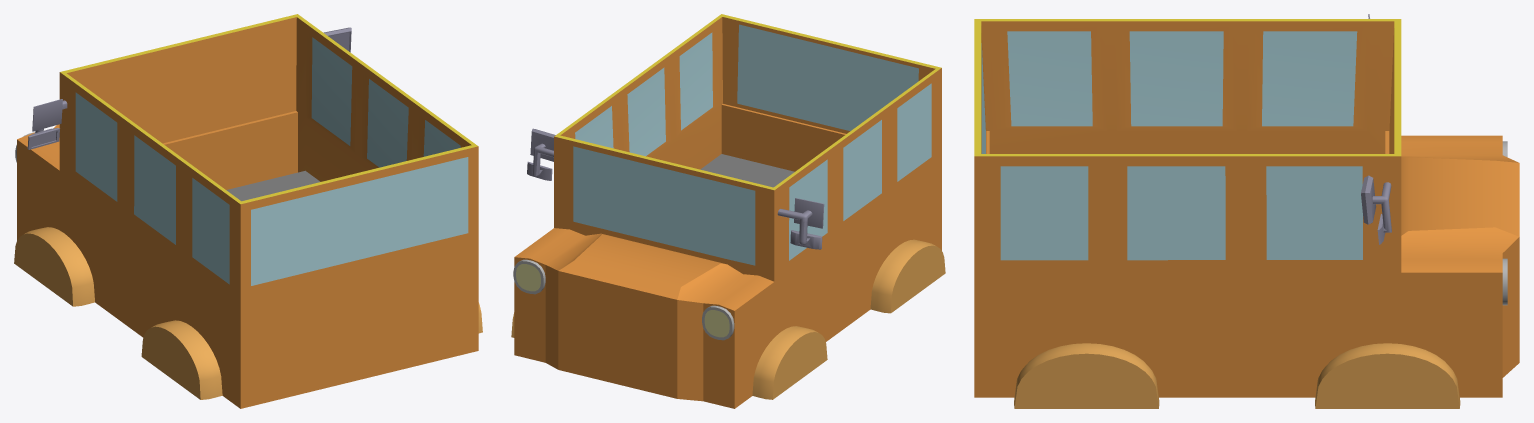
Rendered from bus.fbx.
3 renders of one model, left to right at view 1: azimuth 30°, elevation 25°; view 2: azimuth 150°, elevation 25°; view 3: azimuth 270°, elevation 25°, orthographic. The views are drawn at different scales.
Visible parts, largest first — view 1: Cube.010; view 2: Cube.010; view 3: Cube.010.
Part boxes in pixels (x1,y1,x2,y2): Cube.010: (14,14,482,408); Cube.010: (511,14,945,408); Cube.010: (974,14,1519,408).
Bounding box in the file's own units: 354 × 217 × 445.
